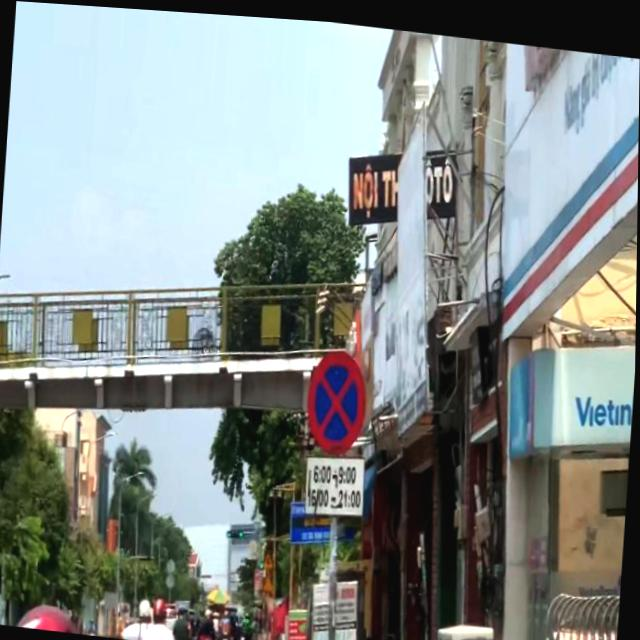Cam dung xe va do xe: (305, 342, 371, 454)
